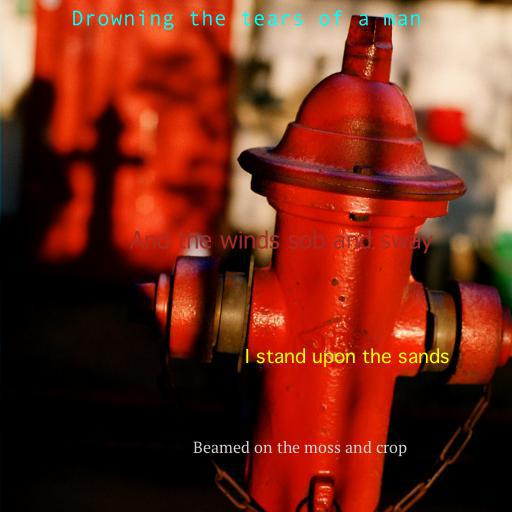Andale Mono: (70, 10, 422, 30)
Geneva: (244, 348, 450, 367)
PT Serif: (193, 440, 407, 457)
Tahoma: (129, 230, 433, 254)
